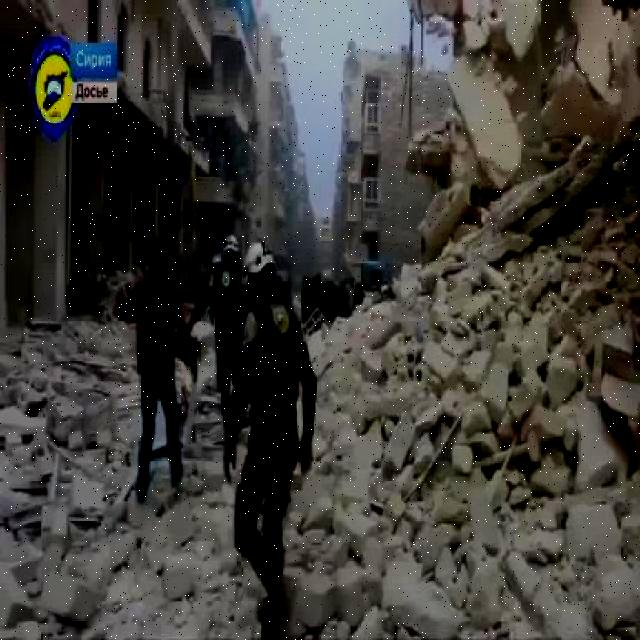Helmet: (240, 240, 272, 274), (220, 233, 238, 256)
